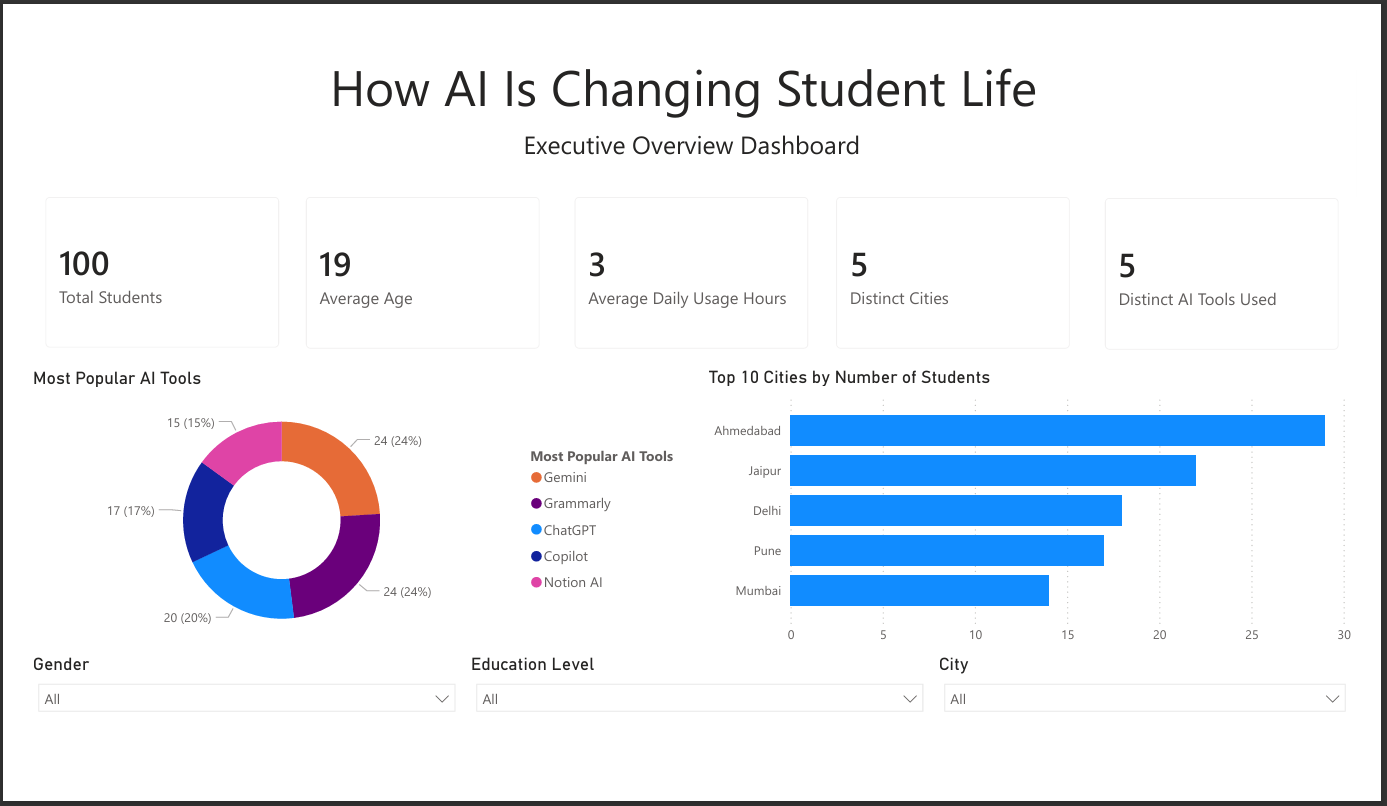

What the dashboard file says about the page in this screenshot:
{"tool":"powerbi","page":{"name":"Executive Overview","canvas":[1280,720],"ordinal":0},"visuals":[{"type":"cardVisual","fields":{"Data":["Measures (2).Total Students"]},"box":[0,144.8,259,179],"z":0},{"type":"cardVisual","fields":{"Data":["Measures (2).Average Age"]},"box":[250.7,144.8,259.2,179.8],"z":1000},{"type":"cardVisual","fields":{"Data":["Measures (2).Average Daily Usage Hours"]},"box":[509.9,144.8,259.2,179.8],"z":2000},{"type":"cardVisual","fields":{"Data":["Measures (2).Distinct Cities"]},"box":[761.8,144.8,259.2,179.8],"z":3000},{"type":"cardVisual","fields":{"Data":["Measures (2).Distinct AI Tools Used"]},"box":[1021.1,146,259.2,179.8],"z":4000},{"type":"donutChart","title":"Most Popular AI Tools","fields":{"Category":["Students.AIToolUsed"],"Y":["CountNonNull(Students.StudentID)"]},"box":[0,325.8,639.5,276.4],"z":5000},{"type":"clusteredBarChart","title":"Top 10 Cities by Number of Students","fields":{"Category":["Students.City"],"Y":["CountNonNull(Students.StudentID)"]},"box":[650.5,324.5,629.8,277.6],"z":6000},{"type":"slicer","title":"Gender","fields":{"Values":["Students.Gender"]},"box":[0,602.1,421.9,89.3],"z":7000},{"type":"slicer","title":"Education Level","fields":{"Values":["Students.EducationLevel"]},"box":[421.9,602.1,451.2,89.3],"z":8000},{"type":"slicer","title":"City","fields":{"Values":["Students.City"]},"box":[873.1,602.1,407.2,89.3],"z":9000},{"type":"textbox","box":[286.1,17.1,706.8,81.9],"z":10000},{"type":"textbox","box":[463.5,90.5,353.4,45.2],"z":11000}]}

Visuals, with their boxes on the page's 1280x720 design canvas (x1, y1, x2, y2). These are canvas units, not pixel positions in the 1387x806 screenshot, which may show the page scaled, cropped or inside an application window:
cardVisual - Measures (2).Total Students: x1=0, y1=145, x2=259, y2=324
cardVisual - Measures (2).Average Age: x1=251, y1=145, x2=510, y2=325
cardVisual - Measures (2).Average Daily Usage Hours: x1=510, y1=145, x2=769, y2=325
cardVisual - Measures (2).Distinct Cities: x1=762, y1=145, x2=1021, y2=325
cardVisual - Measures (2).Distinct AI Tools Used: x1=1021, y1=146, x2=1280, y2=326
"Most Popular AI Tools" donutChart: x1=0, y1=326, x2=640, y2=602
"Top 10 Cities by Number of Students" clusteredBarChart: x1=650, y1=324, x2=1280, y2=602
"Gender" slicer: x1=0, y1=602, x2=422, y2=691
"Education Level" slicer: x1=422, y1=602, x2=873, y2=691
"City" slicer: x1=873, y1=602, x2=1280, y2=691
textbox: x1=286, y1=17, x2=993, y2=99
textbox: x1=464, y1=90, x2=817, y2=136
